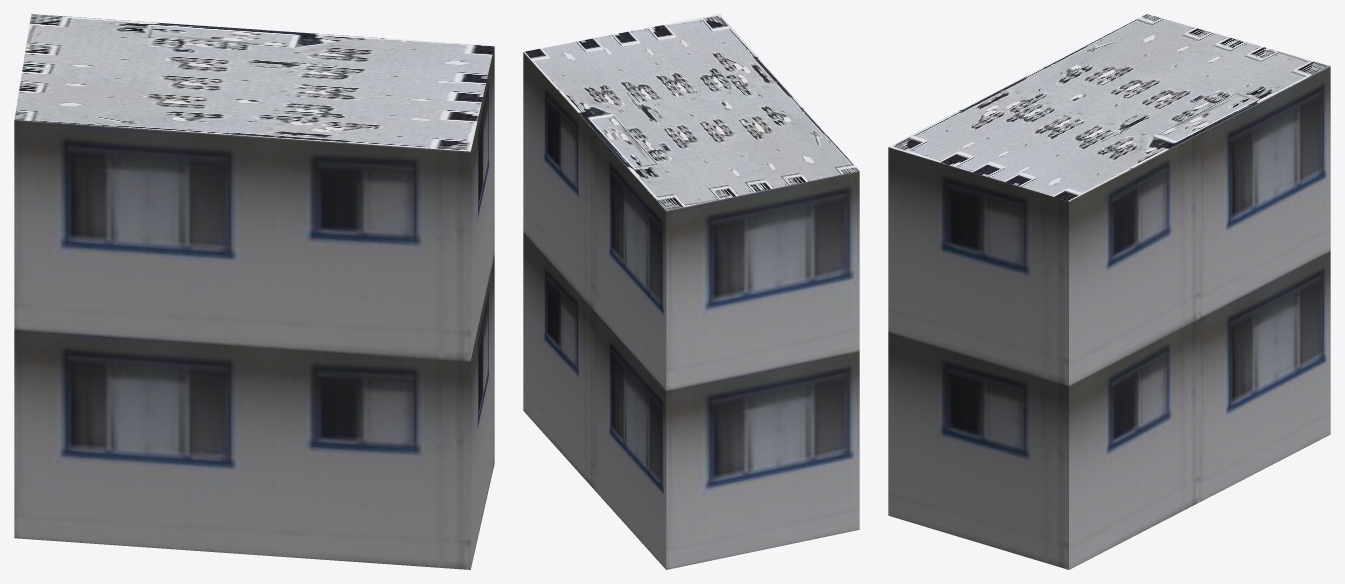
File: ResTex__3698.fbx
The picture shows the model from 3 angles, left to right: view 1: azimuth 30°, elevation 25°; view 2: azimuth 150°, elevation 25°; view 3: azimuth 270°, elevation 25°; orthographic projection. The views are drawn at different scales.
Parts seen in each view (by area): view 1: CityEngineMaterial_9_m, CityEngineMaterial_8_m; view 2: CityEngineMaterial_9_m, CityEngineMaterial_8_m; view 3: CityEngineMaterial_9_m, CityEngineMaterial_8_m.
Boxes of the visible parts, bbox=[...] form: CityEngineMaterial_9_m: bbox=[14, 46, 494, 569]; CityEngineMaterial_8_m: bbox=[14, 14, 494, 151]; CityEngineMaterial_9_m: bbox=[523, 52, 859, 569]; CityEngineMaterial_8_m: bbox=[524, 14, 859, 210]; CityEngineMaterial_9_m: bbox=[888, 66, 1330, 569]; CityEngineMaterial_8_m: bbox=[889, 14, 1329, 201].
Bounding box in the file's own units: 6.54 × 6 × 6.52.
Materials: 2 (2 with a texture image).
